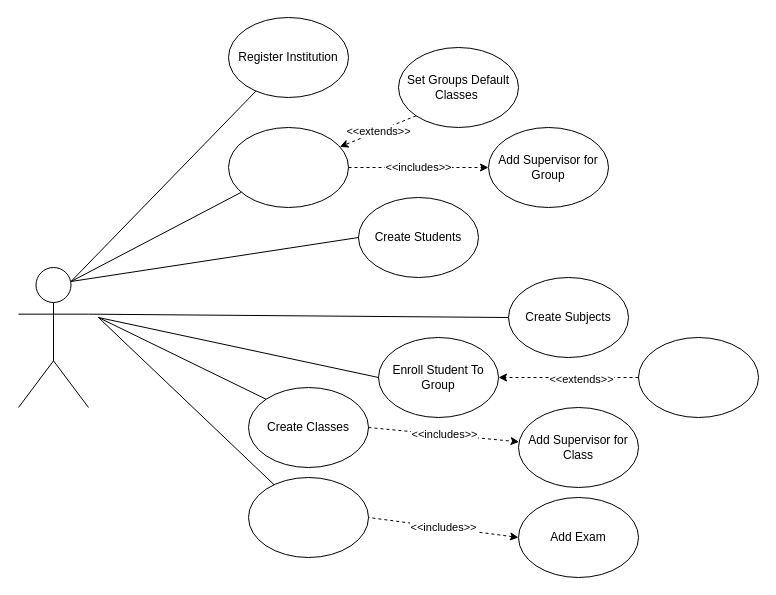
Image size: 776x595. Some labels were removed from this diagram. Here are the shapes that lost their labels. From the top down, the box of each, then its label:
(228, 126, 348, 208): Create Groups
(18, 266, 88, 408): Administation
(638, 336, 758, 418): Assign Student To Classes
(248, 476, 368, 558): Add Exam Results
